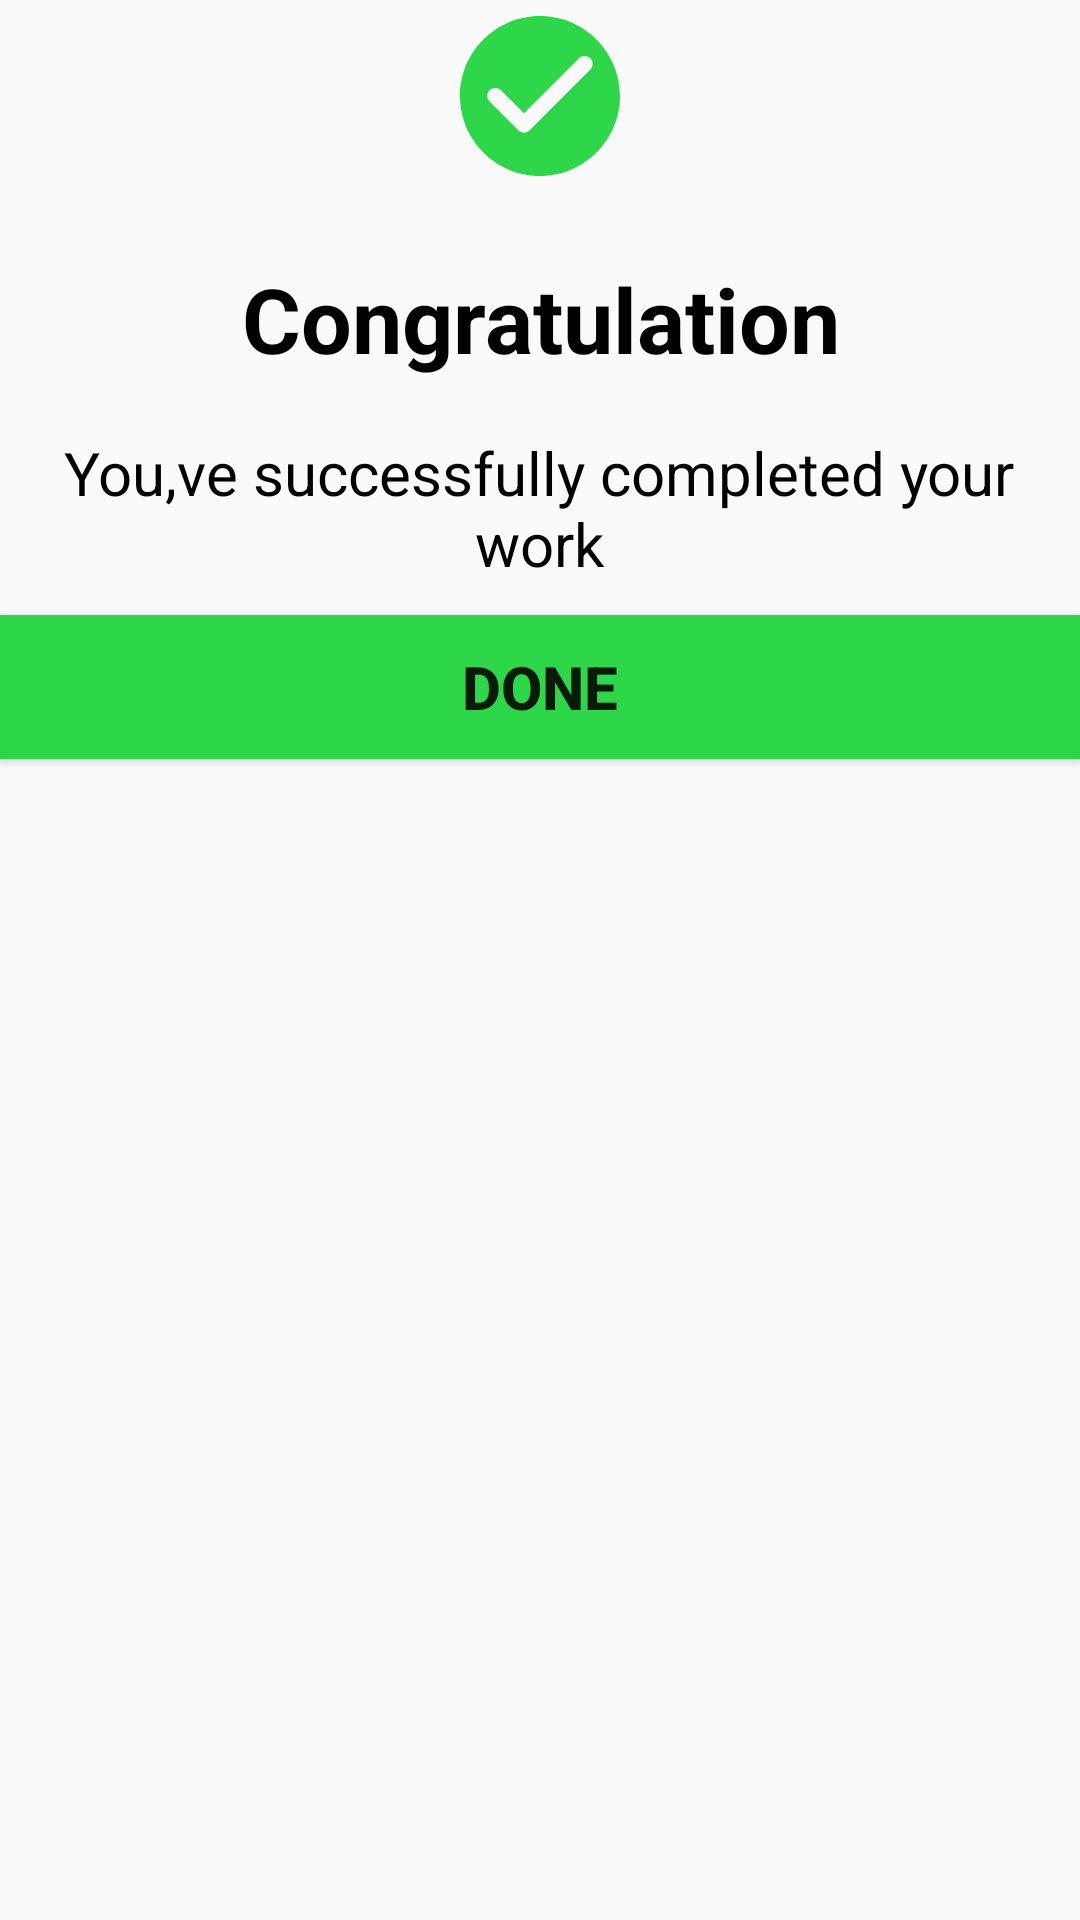

Screen size 1080*1920. Icon name, then its box in pixels as (x1, y1, x2, y2):
done: (460, 16, 620, 176)
